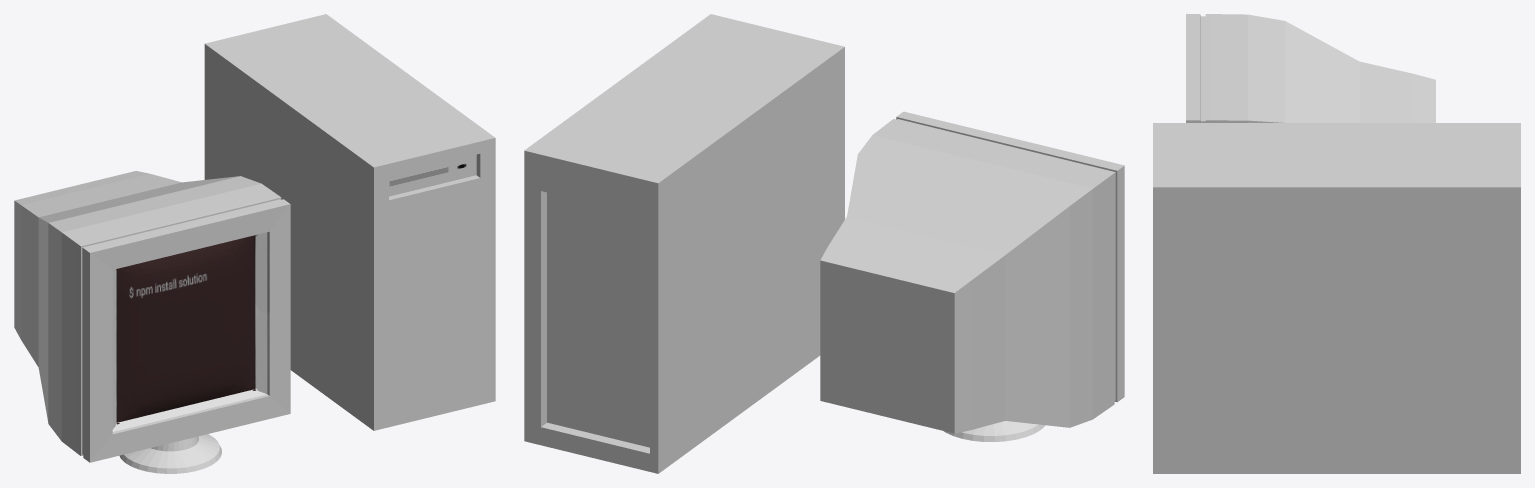
The model's file is comp.gltf.
The picture shows the model from 3 angles, left to right: view 1: azimuth 30°, elevation 25°; view 2: azimuth 150°, elevation 25°; view 3: azimuth 270°, elevation 25°; orthographic projection. The views are drawn at different scales.
Visible parts, largest first — view 1: Cube.001, Cube; view 2: Cube.001, Cube; view 3: Cube.001, Cube.
Part boxes in pixels (bbox=[...]): Cube.001: bbox=[204, 14, 495, 430]; Cube: bbox=[14, 171, 290, 473]; Cube.001: bbox=[524, 14, 844, 473]; Cube: bbox=[820, 111, 1124, 441]; Cube.001: bbox=[1153, 123, 1520, 473]; Cube: bbox=[1186, 14, 1435, 122].
Bounding box in the file's own units: 6.42 × 4.23 × 4.82.
2 materials, 2 textured.
